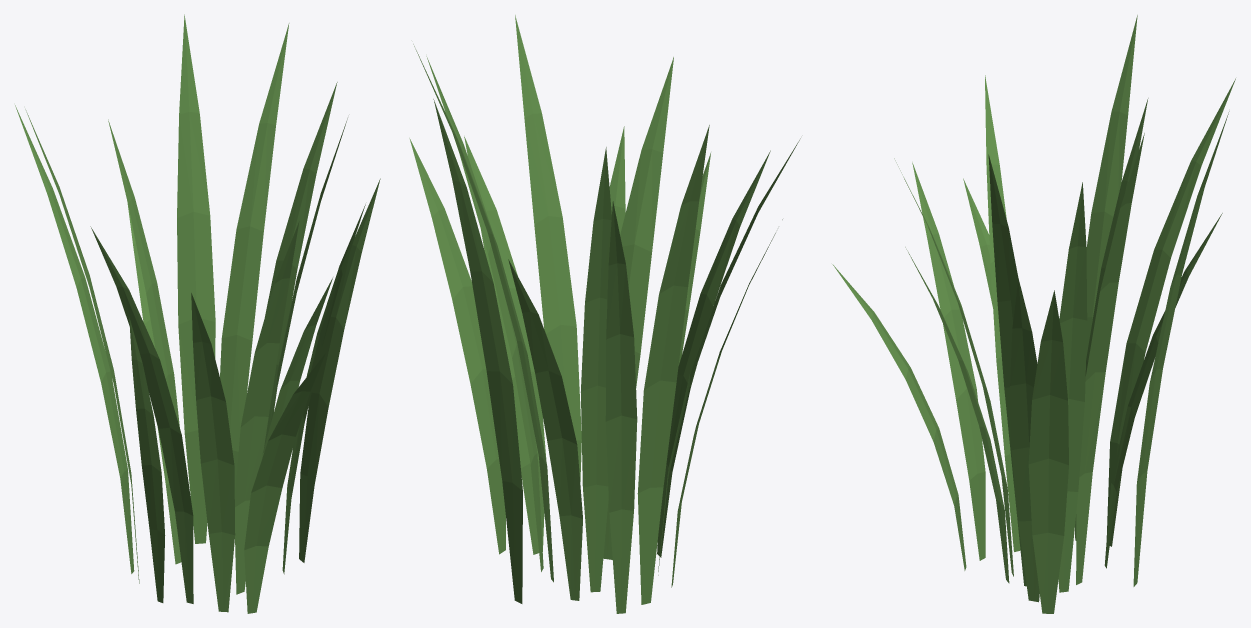
File: grass_tuft_b.glb
3 renders of one model, left to right at view 1: azimuth 30°, elevation 25°; view 2: azimuth 150°, elevation 25°; view 3: azimuth 270°, elevation 25°, orthographic. The views are drawn at different scales.
Parts seen in each view (by area): view 1: grass_tuft_b; view 2: grass_tuft_b; view 3: grass_tuft_b.
Part boxes in pixels (x1,y1,x2,y2): grass_tuft_b: [15, 14, 380, 613]; grass_tuft_b: [409, 15, 800, 613]; grass_tuft_b: [832, 15, 1235, 613].
Bounding box in the file's own units: 0.2197 × 0.32 × 0.2352.
